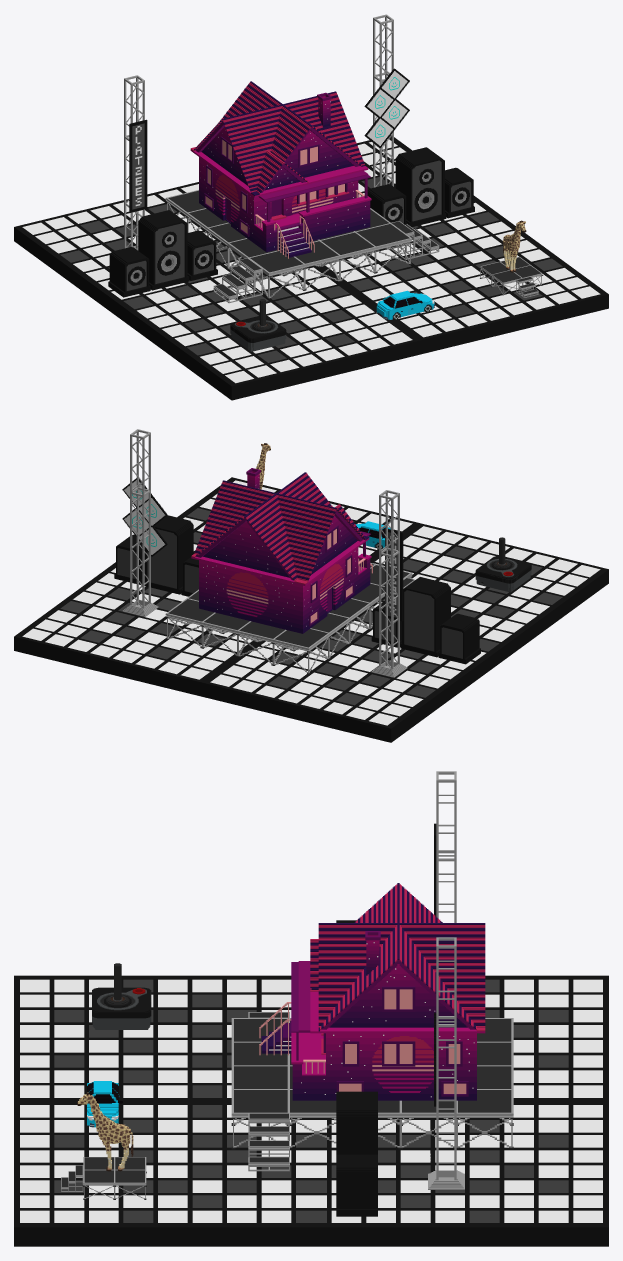
3 renders of one model, top to bottom at view 1: azimuth 30°, elevation 25°; view 2: azimuth 150°, elevation 25°; view 3: azimuth 270°, elevation 25°, orthographic. The views are drawn at different scales.
Parts seen in each view (by area): view 1: TERRAIN_DISCO_FLOOR, HOUSE_VAPORWAVE, OBJRANDOM_JOYSTICK, VEHICLES_CAR, ANIMAL_JIRAFA; view 2: TERRAIN_DISCO_FLOOR, HOUSE_VAPORWAVE, OBJRANDOM_JOYSTICK, VEHICLES_CAR; view 3: TERRAIN_DISCO_FLOOR, HOUSE_VAPORWAVE, OBJRANDOM_JOYSTICK, ANIMAL_JIRAFA, VEHICLES_CAR.
Part boxes in pixels (<box>): TERRAIN_DISCO_FLOOR: <box>14,14,608,400</box>; HOUSE_VAPORWAVE: <box>190,81,371,258</box>; OBJRANDOM_JOYSTICK: <box>230,299,286,351</box>; VEHICLES_CAR: <box>376,290,434,319</box>; ANIMAL_JIRAFA: <box>502,220,526,272</box>; TERRAIN_DISCO_FLOOR: <box>14,429,608,742</box>; HOUSE_VAPORWAVE: <box>191,468,372,633</box>; OBJRANDOM_JOYSTICK: <box>475,537,531,592</box>; VEHICLES_CAR: <box>355,521,390,550</box>; TERRAIN_DISCO_FLOOR: <box>14,771,608,1246</box>; HOUSE_VAPORWAVE: <box>259,883,485,1100</box>; OBJRANDOM_JOYSTICK: <box>92,963,151,1029</box>; ANIMAL_JIRAFA: <box>77,1092,133,1171</box>; VEHICLES_CAR: <box>87,1081,122,1127</box>.
Size of the model in its own units: 4000 by 1984 by 4000.
Materials: 29 (22 with a texture image).
